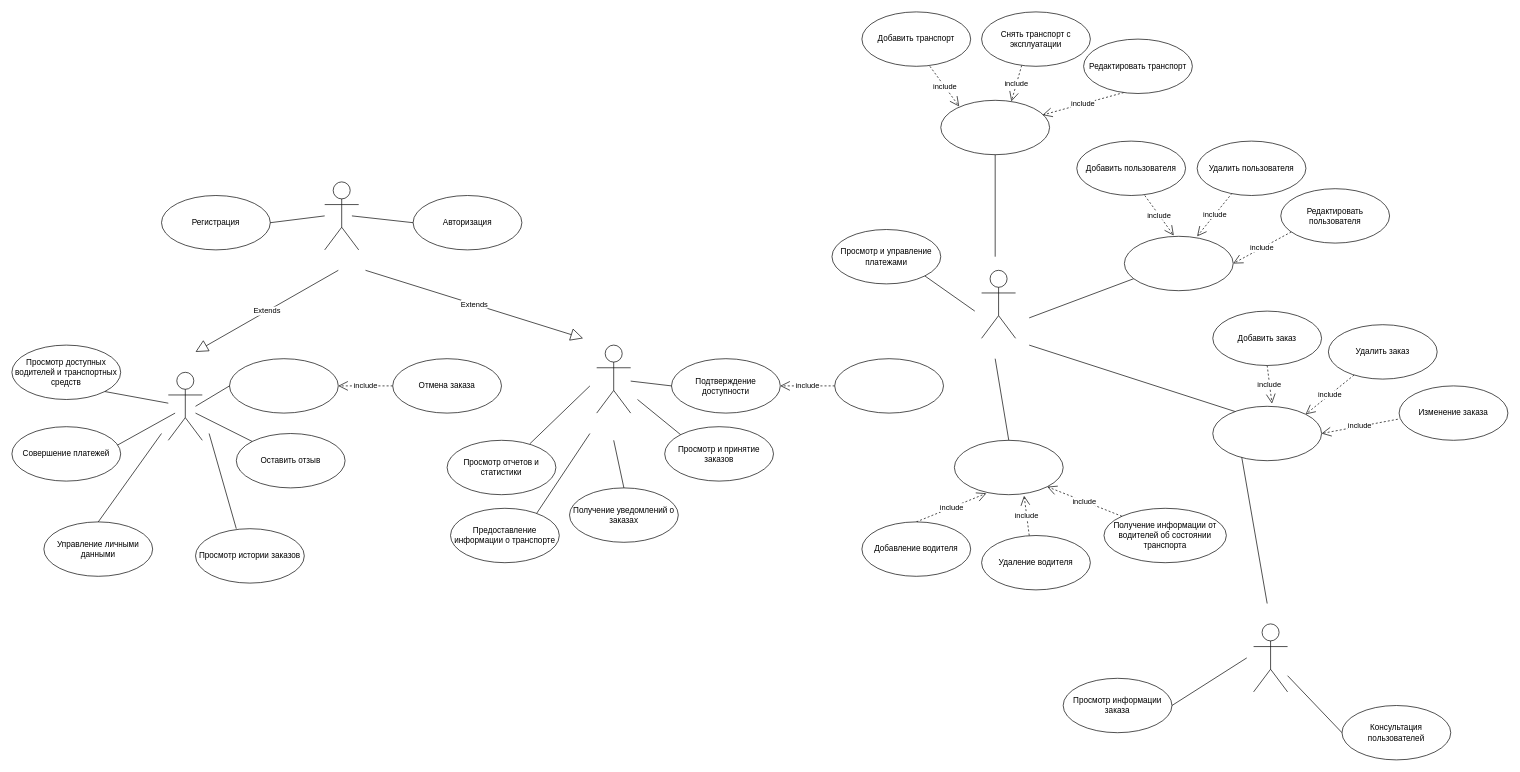
The diagram is 1520 pixels wide and 772 high, and some of its shapes have lost their labels. Each missing label, with the centre of its shape:
Admin: the point at 998,304
Customer: the point at 185,406
Driver: the point at 613,378
Guest: the point at 341,215
Manager: the point at 1270,657
Отклонение доступности: the point at 889,385
Оформление и отслеживание заказа: the point at 283,385
Управление водителями: the point at 1008,467
Управление заказами: the point at 1267,433
Управление пользователями: the point at 1178,263
Управление транспортом: the point at 995,127
